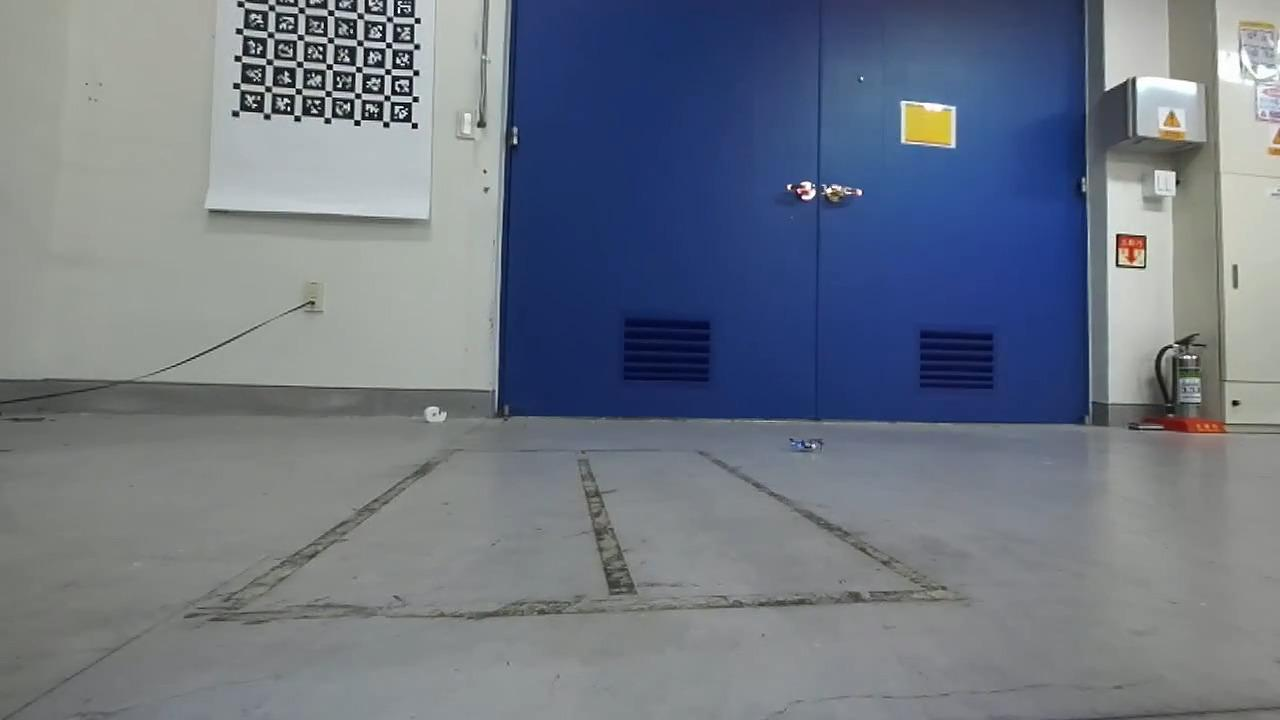crazyflie: (781, 432, 832, 457)
